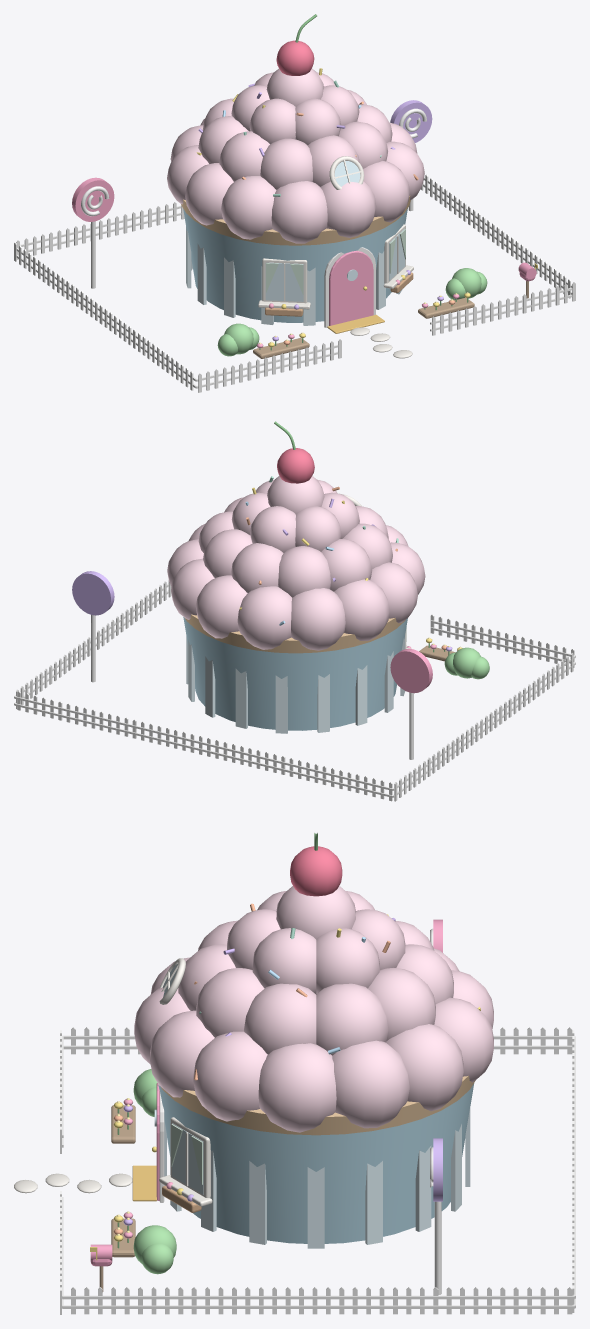
The model's file is building_sweets_L08.glb.
The picture shows the model from 3 angles, top to bottom: view 1: azimuth 30°, elevation 25°; view 2: azimuth 150°, elevation 25°; view 3: azimuth 270°, elevation 25°; orthographic projection. The views are drawn at different scales.
Visible parts, largest first — view 1: Body, sweets_L8; view 2: Body, sweets_L8; view 3: Body, sweets_L8.
Part boxes in pixels (left/top/right/bottom): Body: left=72, top=14, right=432, bottom=333; sweets_L8: left=14, top=174, right=575, bottom=392; Body: left=72, top=421, right=432, bottom=759; sweets_L8: left=14, top=580, right=575, bottom=801; Body: left=132, top=833, right=493, bottom=1294; sweets_L8: left=14, top=1027, right=575, bottom=1314.
Bounding box in the file's own units: 25.35 × 16.85 × 23.04.
